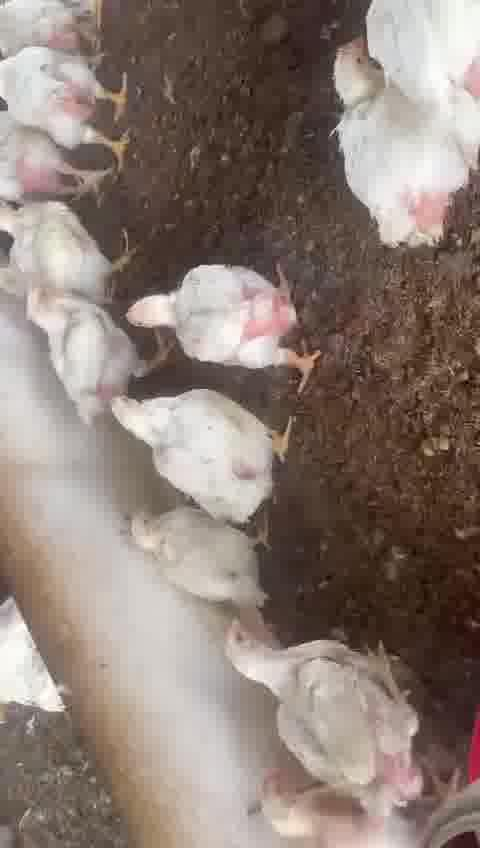AbNormal: (117, 492, 280, 627), (245, 772, 406, 848)
Normal: (224, 623, 436, 813), (96, 371, 296, 515), (329, 30, 457, 254), (117, 261, 327, 385), (0, 44, 145, 161), (21, 278, 131, 413), (0, 191, 137, 294), (0, 121, 128, 201)
